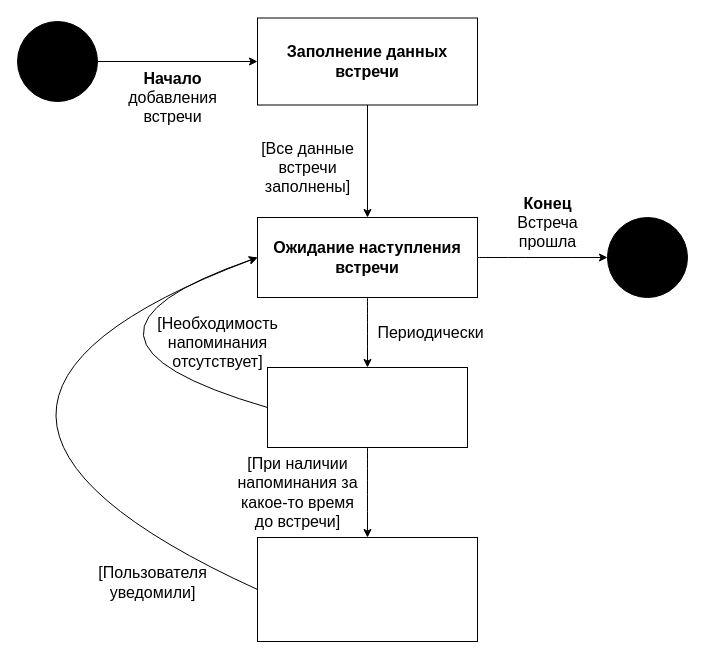
This 705x659 diagram has some shape labels left out. The box of each missing label's shape, as (x1, y1, x2, y2) in pixels:
Напоминание пользователю о встрече: (256, 536, 478, 642)
Проверка наличия напоминания о встрече: (266, 366, 468, 448)
